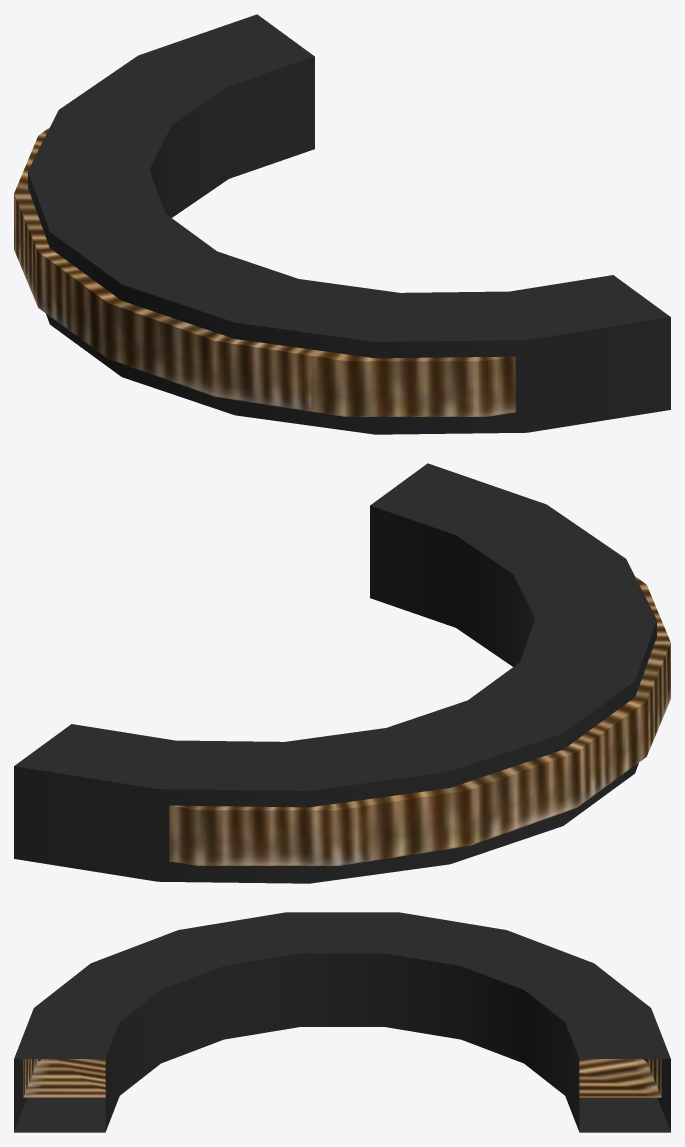
Rendered from MrVisor.obj.
The picture shows the model from 3 angles, top to bottom: view 1: azimuth 30°, elevation 25°; view 2: azimuth 150°, elevation 25°; view 3: azimuth 270°, elevation 25°; orthographic projection. The views are drawn at different scales.
Visible parts, largest first — view 1: Tube003, Tube004; view 2: Tube003, Tube004; view 3: Tube003, Tube004.
Boxes of the visible parts, left/top/right/bottom form: Tube003: left=28, top=14, right=670, bottom=434; Tube004: left=14, top=127, right=515, bottom=416; Tube003: left=14, top=463, right=656, bottom=883; Tube004: left=169, top=576, right=670, bottom=865; Tube003: left=14, top=912, right=670, bottom=1132; Tube004: left=23, top=1059, right=661, bottom=1097.
Bounding box in the file's own units: 32.67 × 7.4 × 59.89.
Materials: 2 (1 with a texture image).
